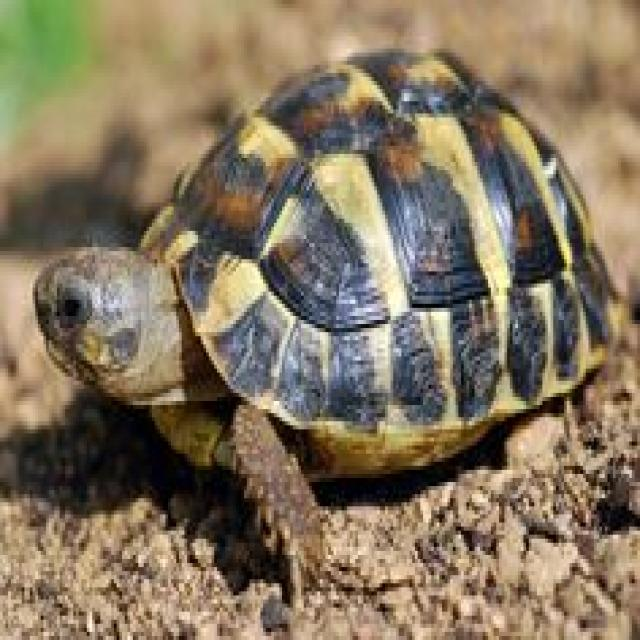Herbivorous: (30, 49, 613, 571)
